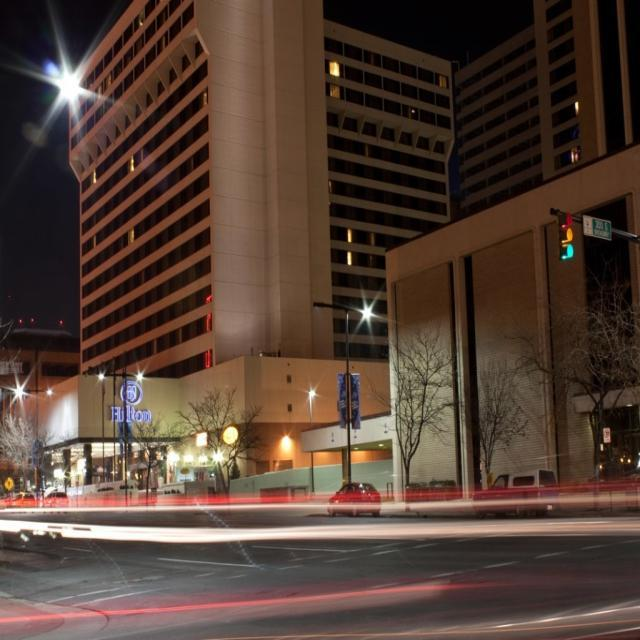traffic light: (557, 208, 573, 260)
